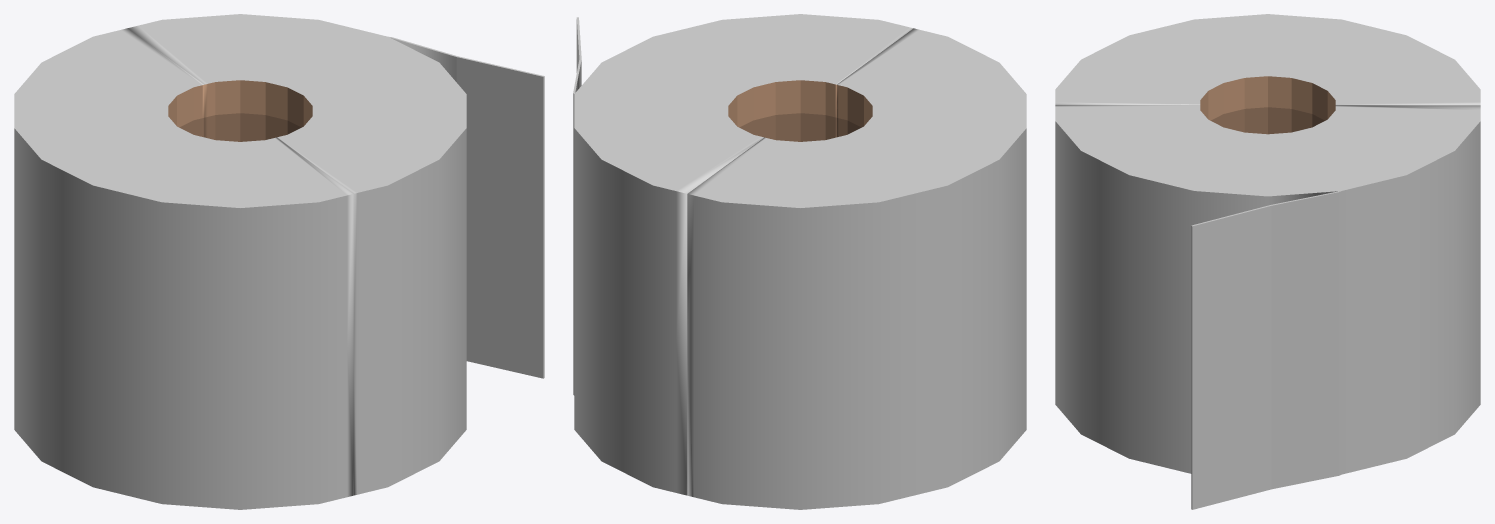
File: SM_Kleenex_01a.fbx
3 renders of one model, left to right at view 1: azimuth 30°, elevation 25°; view 2: azimuth 150°, elevation 25°; view 3: azimuth 270°, elevation 25°, orthographic. The views are drawn at different scales.
Visible parts, largest first — view 1: Kleenex_02, Kleenex_01; view 2: Kleenex_02, Kleenex_01; view 3: Kleenex_01, Kleenex_02.
Boxes of the visible parts, <box> form: Kleenex_02: <box>14,28,353,509</box>; Kleenex_01: <box>127,14,544,495</box>; Kleenex_02: <box>687,28,1026,509</box>; Kleenex_01: <box>573,14,913,495</box>; Kleenex_01: <box>1055,105,1480,509</box>; Kleenex_02: <box>1055,14,1480,134</box>.
Size of the model in its own units: 31.44 by 19.58 by 26.6.
